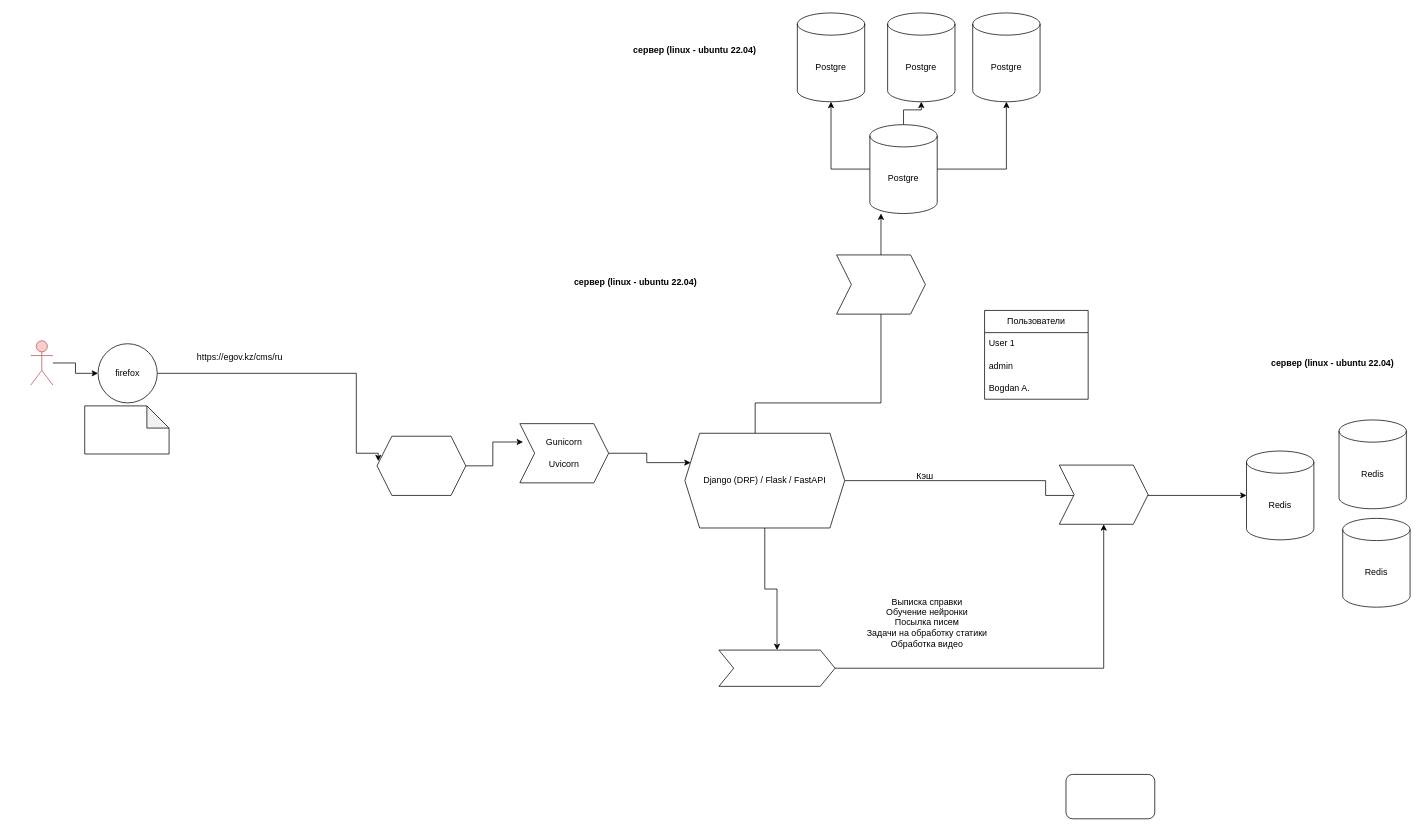
This 1423x832 diagram has some shape labels left out. The shapes that lost their labels are listed below. From the top down, each one's centre as x and y in pixels, then its label:
the point at 41,362: Пользователь
the point at 126,429: Angular Vue React
the point at 421,465: nginx
the point at 776,667: очередь задач
the point at 1110,796: amazon s3
